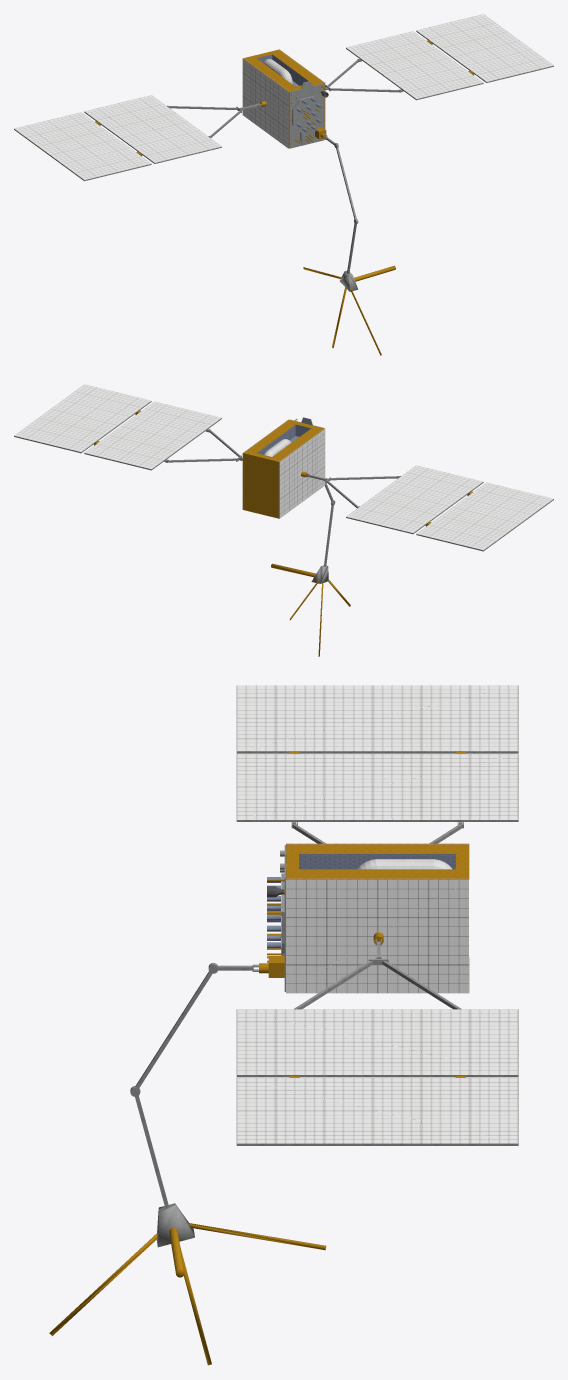
File: GPS_III_static_v03_ai_adjusted_panels_roughness_jpegs.glb
The picture shows the model from 3 angles, top to bottom: view 1: azimuth 30°, elevation 25°; view 2: azimuth 150°, elevation 25°; view 3: azimuth 270°, elevation 25°; orthographic projection. The views are drawn at different scales.
Parts seen in each view (by area): view 1: GPS_III_Satellite; view 2: GPS_III_Satellite; view 3: GPS_III_Satellite.
Boxes of the visible parts, x1,y1,x2,y2 form: GPS_III_Satellite: [14, 14, 553, 355]; GPS_III_Satellite: [14, 384, 553, 656]; GPS_III_Satellite: [49, 685, 518, 1365].
Bounding box in the file's own units: 0.1782 × 0.0921 × 0.0771.
6 materials, 5 textured.
